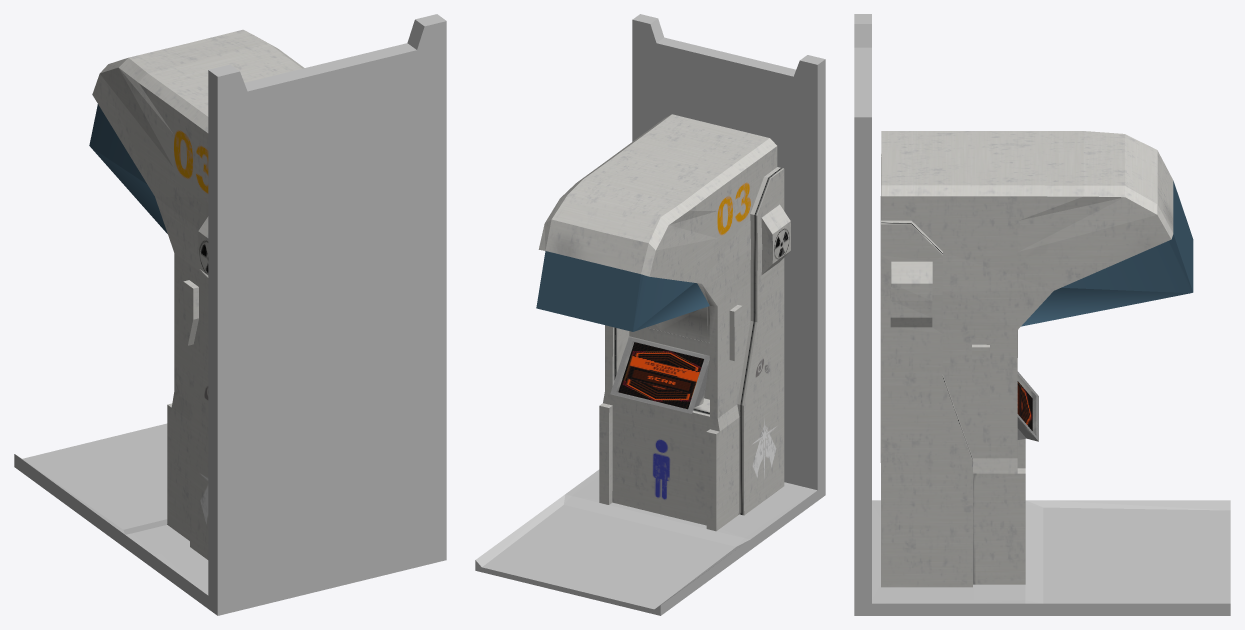
The model's file is scannerMachine.fbx.
The picture shows the model from 3 angles, left to right: view 1: azimuth 30°, elevation 25°; view 2: azimuth 150°, elevation 25°; view 3: azimuth 270°, elevation 25°; orthographic projection. The views are drawn at different scales.
Parts seen in each view (by area): view 1: Cube.017; view 2: Cube.017, Cube.018; view 3: Cube.017, Cube.018.
Boxes of the visible parts, x1,y1,x2,y2 form: Cube.017: [14, 14, 446, 615]; Cube.017: [475, 14, 825, 615]; Cube.018: [618, 342, 703, 409]; Cube.017: [854, 14, 1230, 615]; Cube.018: [1017, 381, 1032, 430].
Size of the model in its own units: 88.92 by 200 by 137.
